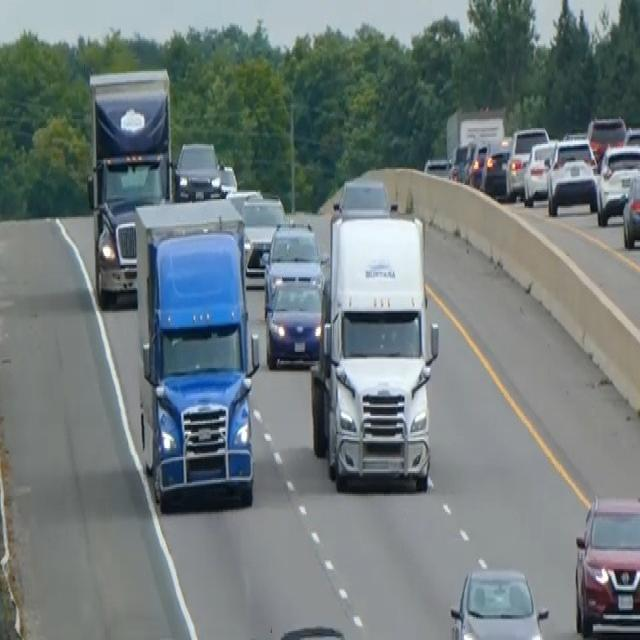car: (573, 492, 639, 638), (448, 564, 549, 638), (264, 263, 325, 368), (261, 217, 321, 315), (546, 133, 598, 217), (240, 192, 285, 283), (595, 140, 639, 226), (505, 123, 548, 199), (173, 139, 222, 201), (333, 174, 395, 217), (522, 137, 557, 206), (586, 114, 626, 162), (481, 137, 511, 197), (621, 167, 639, 249), (464, 137, 489, 188), (449, 139, 470, 181), (423, 154, 452, 180)
lorry: (131, 197, 261, 512), (308, 192, 440, 494)
